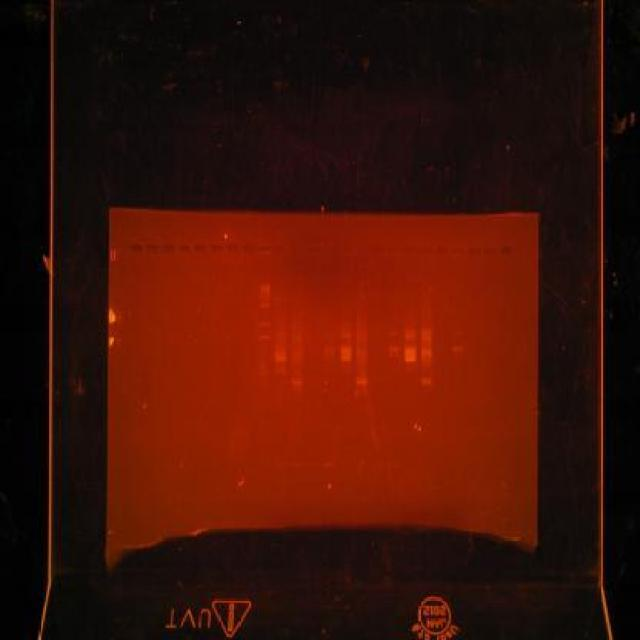B: (419, 375, 433, 388), (322, 346, 336, 354), (354, 377, 368, 385), (354, 348, 368, 356), (404, 347, 418, 355), (404, 354, 418, 362), (387, 345, 401, 353), (404, 332, 418, 340), (322, 329, 336, 337), (339, 346, 352, 354), (421, 349, 434, 357), (386, 461, 400, 468), (322, 461, 336, 468), (274, 461, 288, 468), (290, 378, 302, 386), (340, 354, 352, 362), (420, 328, 432, 336), (388, 329, 400, 337), (339, 332, 352, 338), (452, 346, 465, 352), (356, 332, 369, 338), (274, 368, 286, 374), (274, 356, 286, 362), (388, 352, 400, 358), (290, 462, 302, 468), (404, 366, 416, 372), (290, 350, 304, 355), (290, 355, 304, 360), (453, 330, 464, 336), (421, 335, 434, 340), (322, 354, 336, 358)
L: (123, 236, 519, 259)
M: (256, 280, 272, 472)
P: (258, 294, 271, 300), (258, 303, 271, 309), (258, 334, 271, 340), (259, 321, 270, 328), (258, 369, 270, 374), (258, 292, 271, 294)
Pc: (192, 243, 208, 254), (500, 244, 514, 256), (129, 242, 143, 253), (224, 242, 238, 253), (258, 243, 272, 254), (370, 243, 384, 254), (210, 242, 222, 253), (162, 244, 176, 253), (178, 244, 192, 253), (242, 243, 256, 252), (482, 247, 496, 256), (452, 247, 466, 256), (403, 244, 417, 253), (322, 244, 336, 253), (306, 244, 320, 253), (274, 243, 288, 252), (146, 244, 159, 253), (355, 244, 368, 253), (291, 243, 304, 252), (467, 246, 481, 254), (420, 244, 432, 253), (388, 244, 400, 253), (340, 244, 352, 253), (435, 246, 448, 254)
